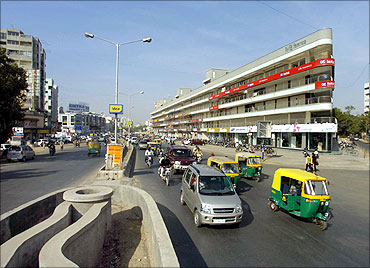car: (178, 165, 254, 233)
rickshaw: (273, 168, 334, 229), (205, 156, 245, 189), (231, 147, 264, 180)
two_wheehler: (155, 154, 175, 185), (140, 147, 154, 170), (190, 144, 205, 163)
